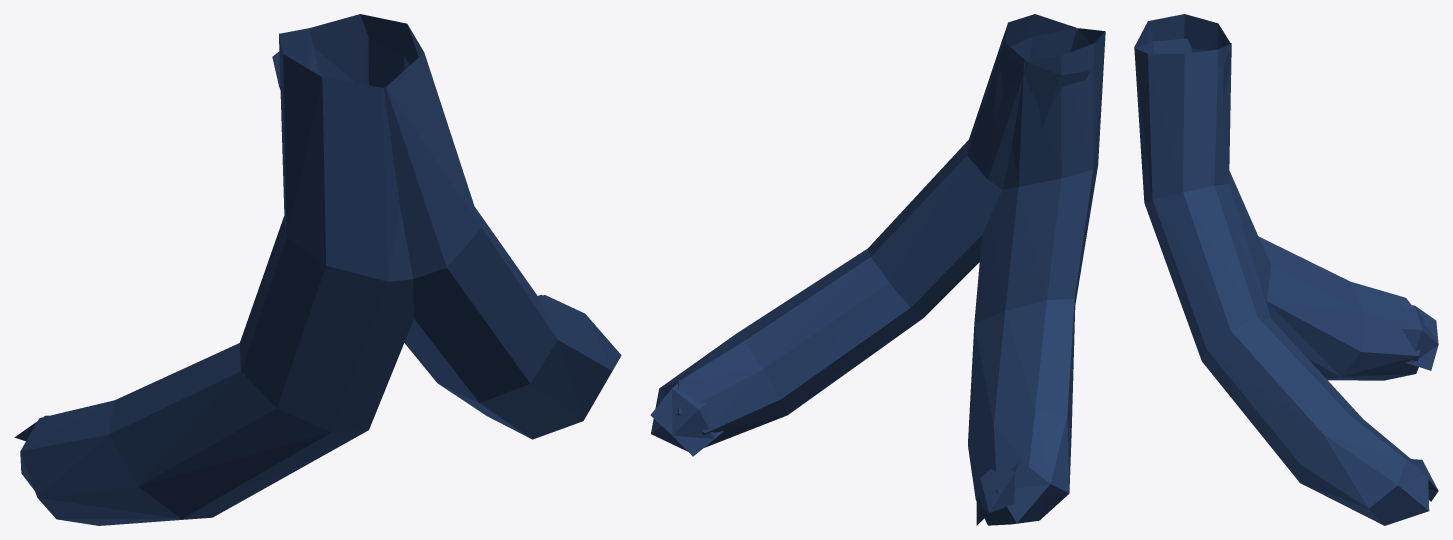
Rendered from Vena Iliaca Común.FBX.
3 renders of one model, left to right at view 1: azimuth 30°, elevation 25°; view 2: azimuth 150°, elevation 25°; view 3: azimuth 270°, elevation 25°, orthographic. The views are drawn at different scales.
Parts seen in each view (by area): view 1: CS_Veins; view 2: CS_Veins; view 3: CS_Veins.
Boxes of the visible parts, <box> form: CS_Veins: <box>14,14,621,525</box>; CS_Veins: <box>650,14,1105,525</box>; CS_Veins: <box>1134,14,1438,525</box>.
Size of the model in its own units: 175 by 164 by 120.
